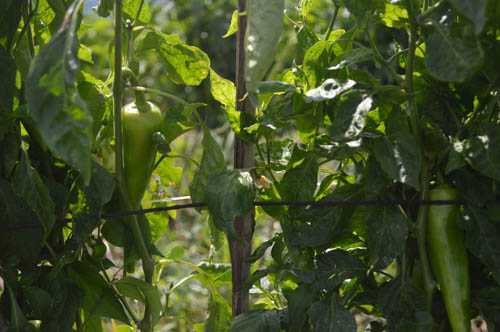ChiliPepper: (422, 187, 469, 327), (116, 105, 164, 213)
